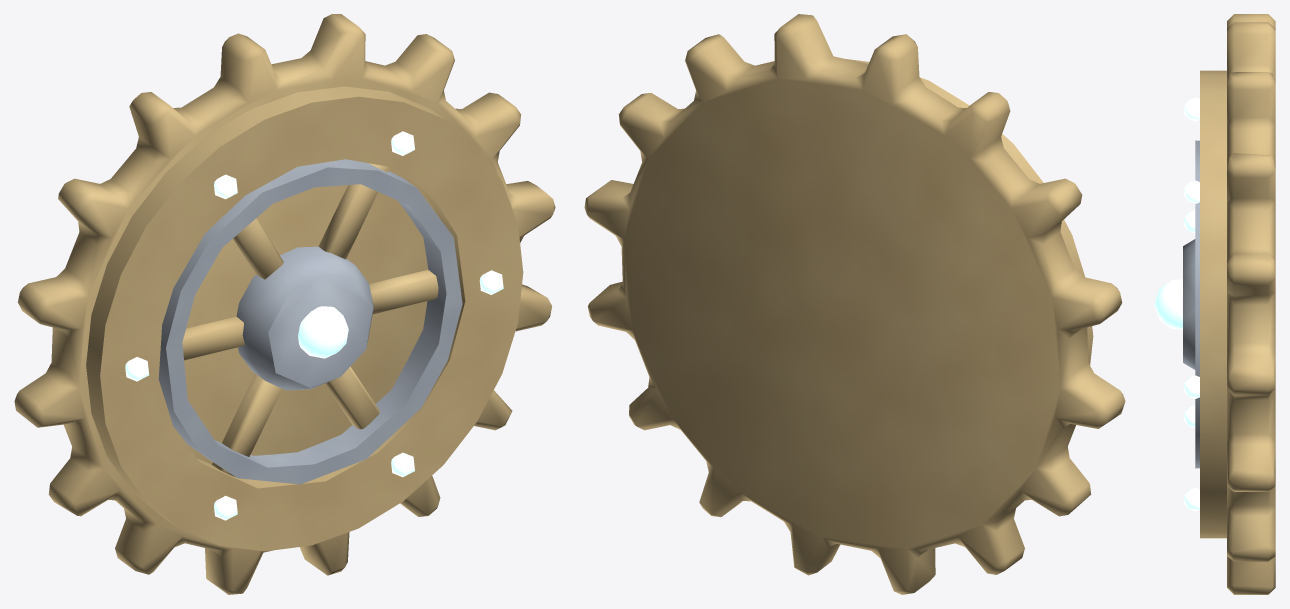
The model's file is gear_clockwork.gltf.
3 views of the same model, side by side, from view 1: azimuth 30°, elevation 25°; view 2: azimuth 150°, elevation 25°; view 3: azimuth 270°, elevation 25° (orthographic). The views are drawn at different scales.
Visible parts, largest first — view 1: gear_clockwork; view 2: gear_clockwork; view 3: gear_clockwork.
Part boxes in pixels (<box>): gear_clockwork: <box>14,14,555,594</box>; gear_clockwork: <box>584,14,1125,594</box>; gear_clockwork: <box>1154,14,1275,594</box>.
Size of the model in its own units: 1.19 by 1.19 by 0.249.
1 material, 1 textured.
